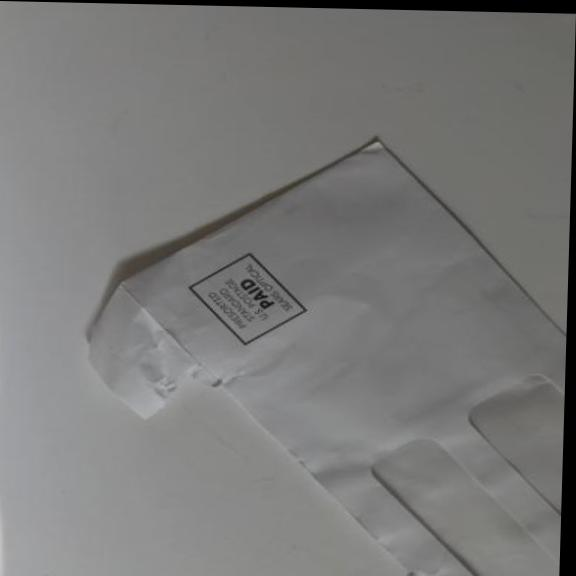Kertas: (68, 129, 572, 576)
